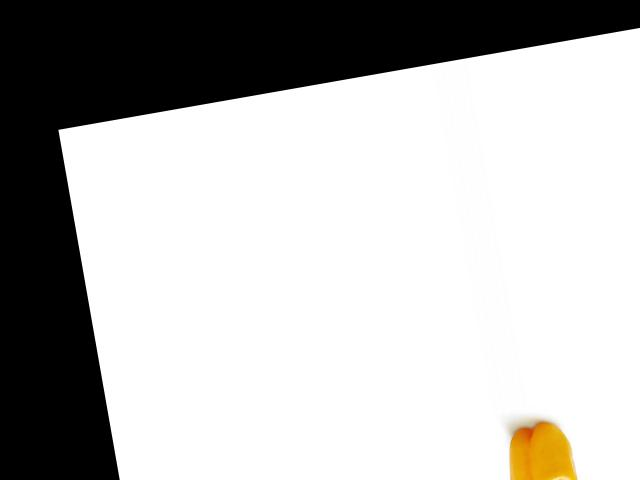bell_pepper: (500, 415, 590, 480)
